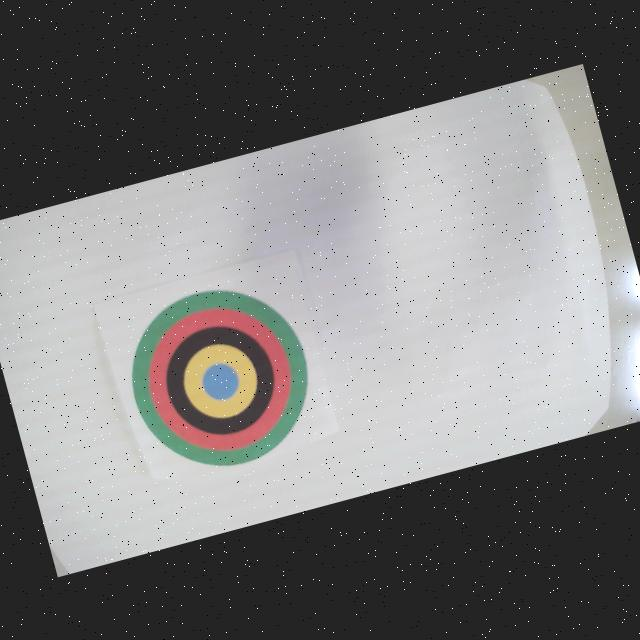COGNITIVE: (112, 268, 329, 486)
